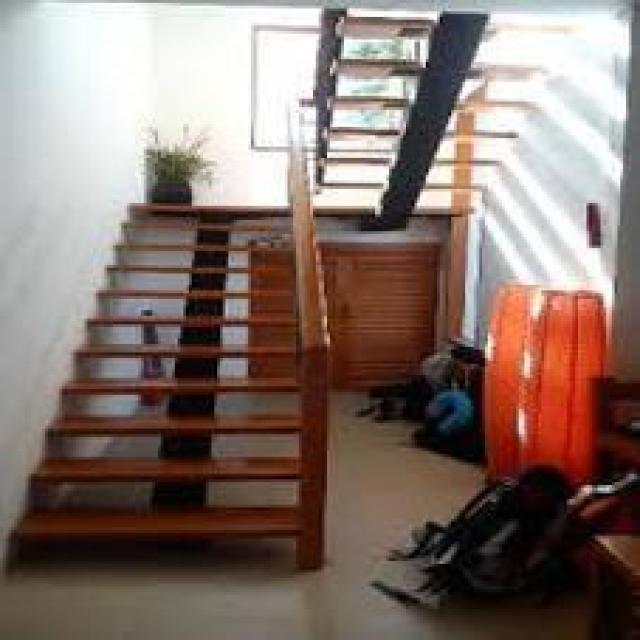upstair: (7, 339, 337, 537)
